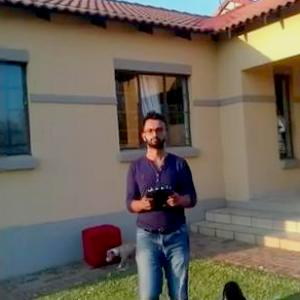follow: (120, 105, 204, 299)
null: (103, 234, 138, 271)
